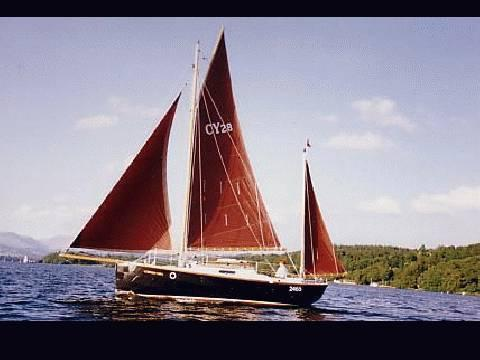Ship: (59, 26, 342, 306)
